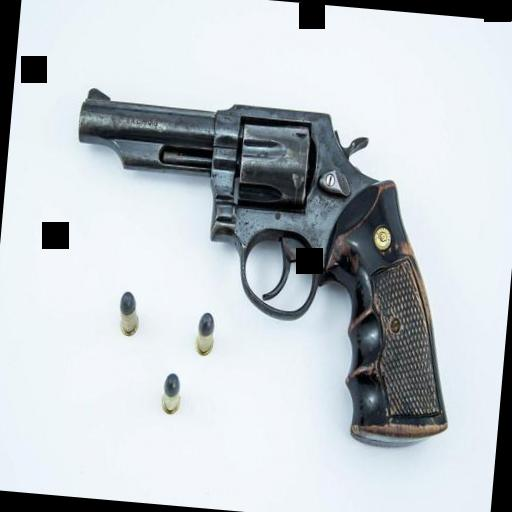Handgun: (41, 68, 474, 457)
